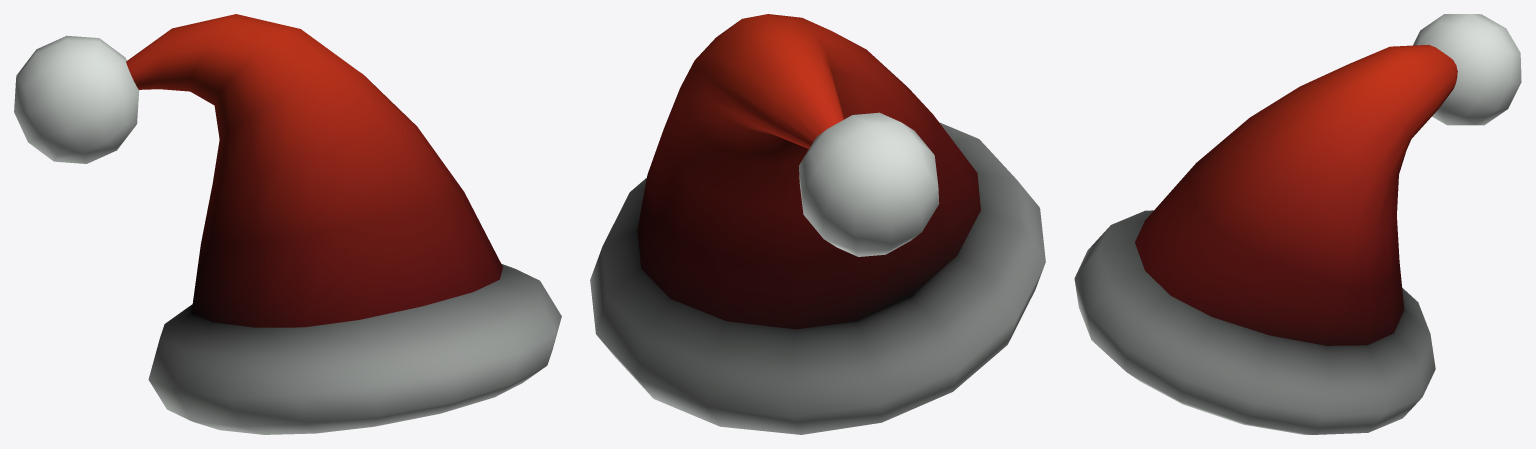
The model's file is Santa_cap.fbx.
3 renders of one model, left to right at view 1: azimuth 30°, elevation 25°; view 2: azimuth 150°, elevation 25°; view 3: azimuth 270°, elevation 25°, orthographic. The views are drawn at different scales.
Visible parts, largest first — view 1: Santa_cap; view 2: Santa_cap; view 3: Santa_cap.
Part boxes in pixels (x1=…): Santa_cap: x1=14, y1=14, x2=561, y2=434; Santa_cap: x1=590, y1=14, x2=1045, y2=434; Santa_cap: x1=1074, y1=14, x2=1521, y2=434.
Bounding box in the file's own units: 102 × 89.36 × 110.
